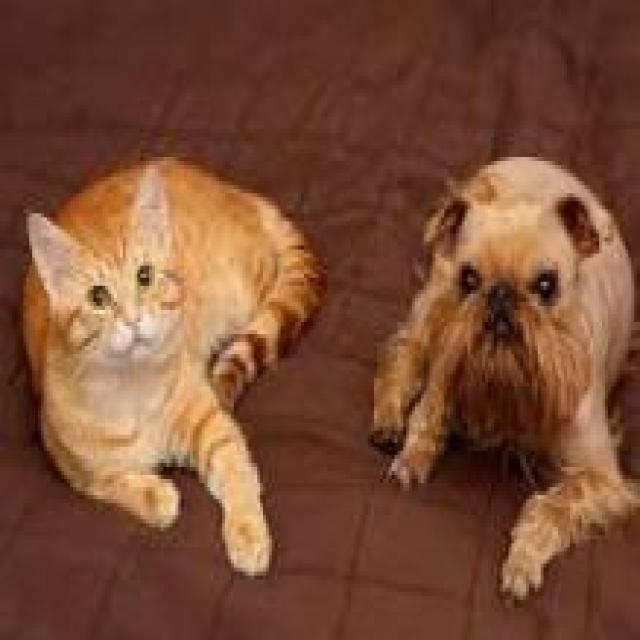Gato: (15, 149, 336, 584)
Perro: (368, 145, 640, 604)
